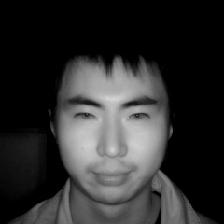happy: (32, 27, 183, 209)
